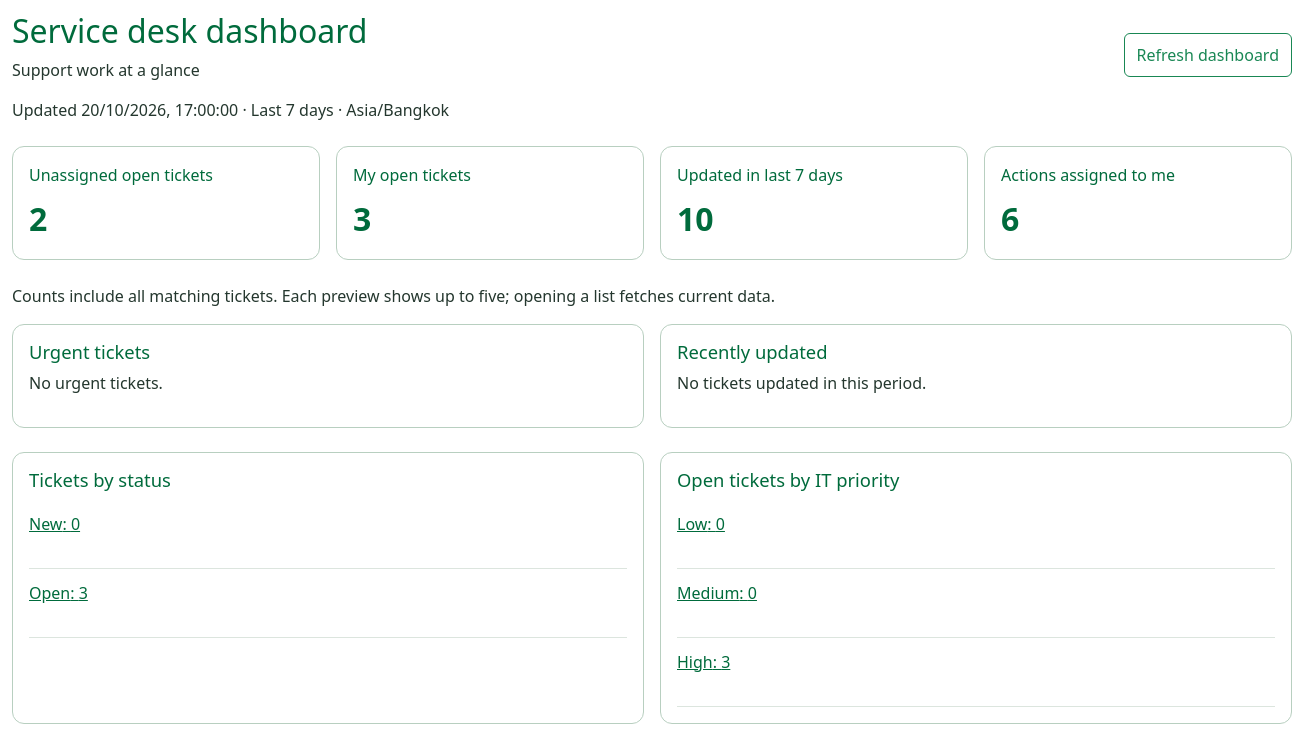
Test: Staff dashboard › clears previously visible private data on 401
Expected: the link "My open tickets 3" is shown, [336, 146, 644, 260]
Click the button "Refresh dashboard": (1208,55) [1124, 33, 1292, 77]
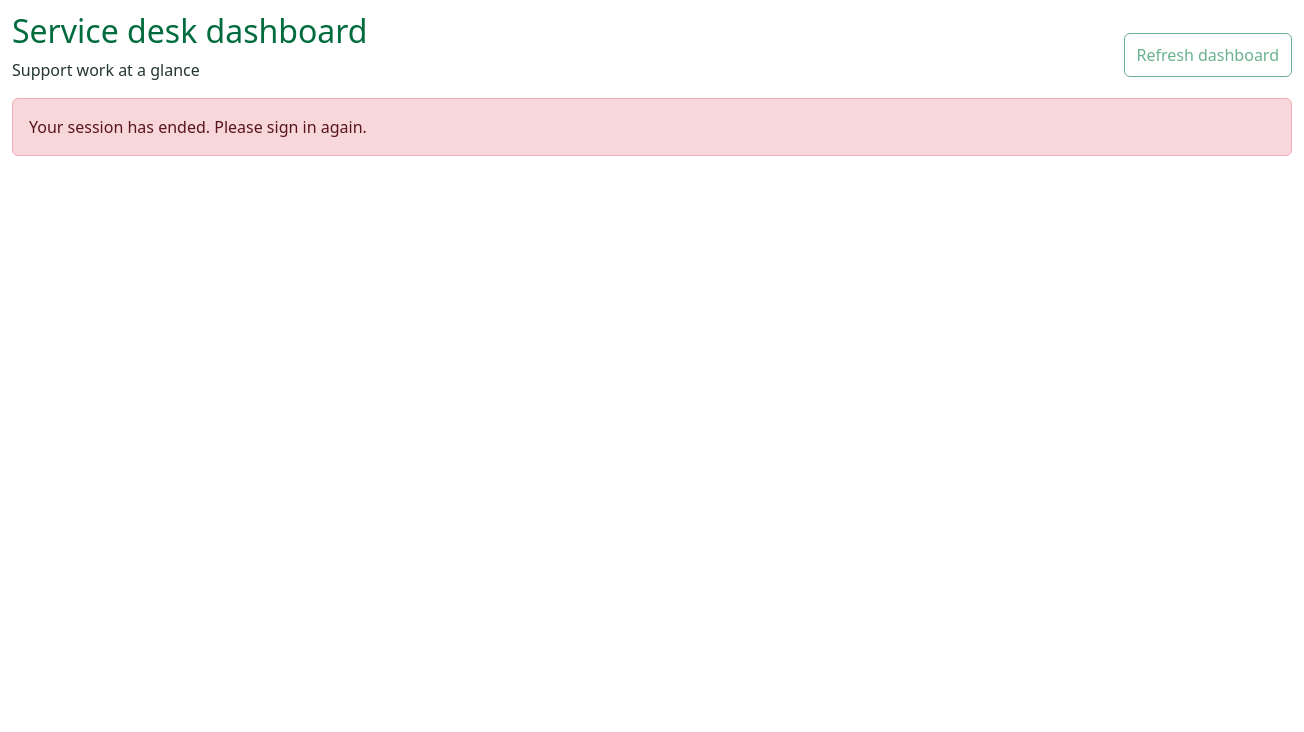
Result: the link "My open tickets 3" is gone
